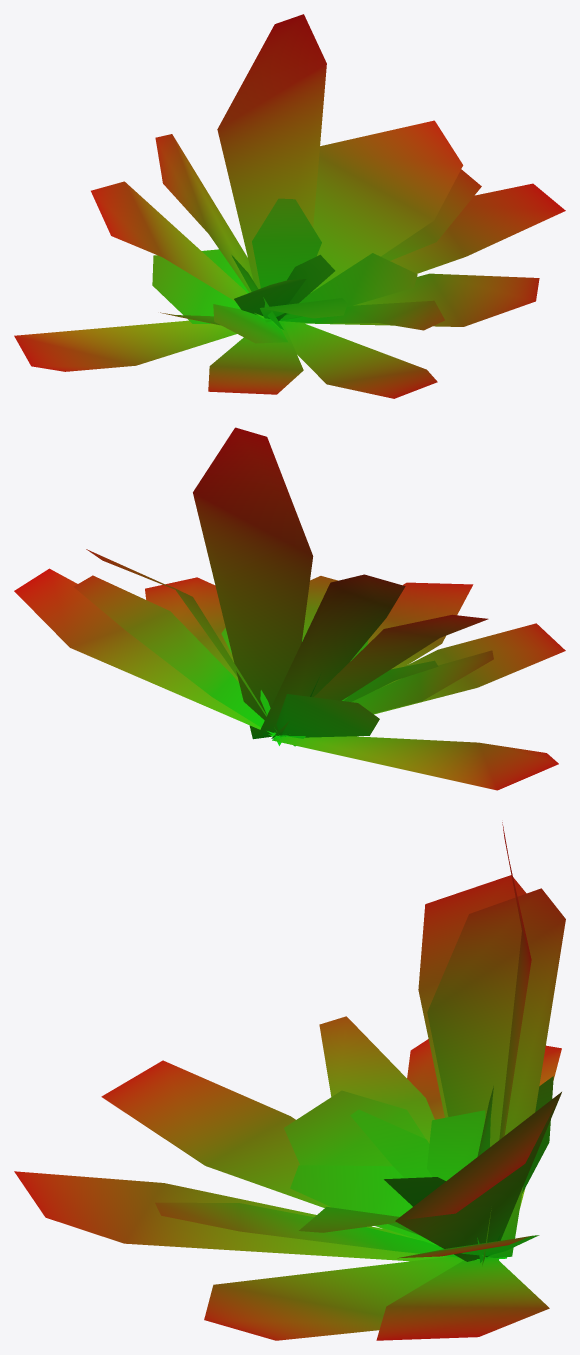
The model's file is Var27_LOD2.fbx.
3 views of the same model, one above another, from view 1: azimuth 30°, elevation 25°; view 2: azimuth 150°, elevation 25°; view 3: azimuth 270°, elevation 25° (orthographic). The views are drawn at different scales.
Visible parts, largest first — view 1: _uson_Var27_LOD2; view 2: _uson_Var27_LOD2; view 3: _uson_Var27_LOD2.
Boxes of the visible parts, x1,y1,x2,y2 form: _uson_Var27_LOD2: [14, 14, 565, 398]; _uson_Var27_LOD2: [14, 427, 565, 790]; _uson_Var27_LOD2: [14, 822, 565, 1340].
Bounding box in the file's own units: 15.5 × 8.79 × 9.41.
